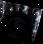Speed Limit -60-: (0, 8, 34, 42)
